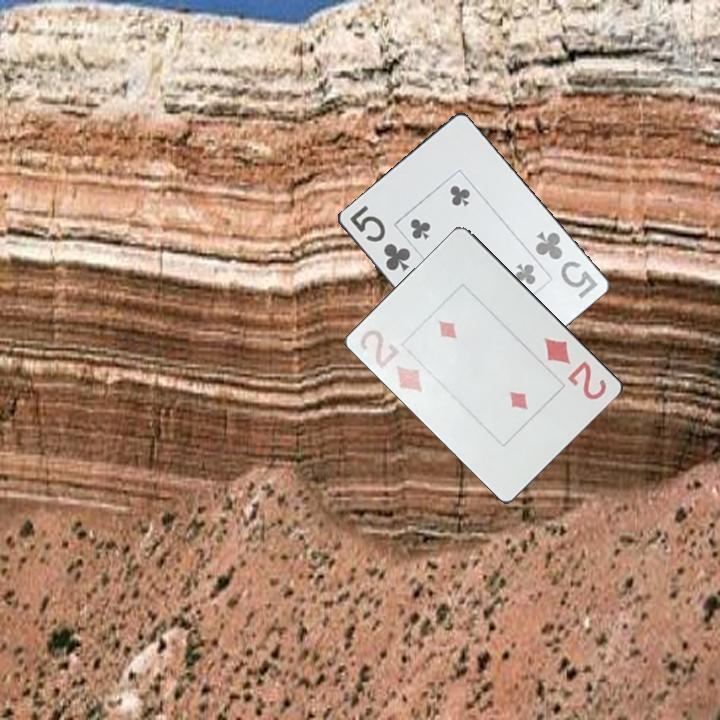2d: (355, 326, 430, 395), (540, 334, 612, 403)
5c: (531, 227, 600, 302), (345, 201, 413, 274)
